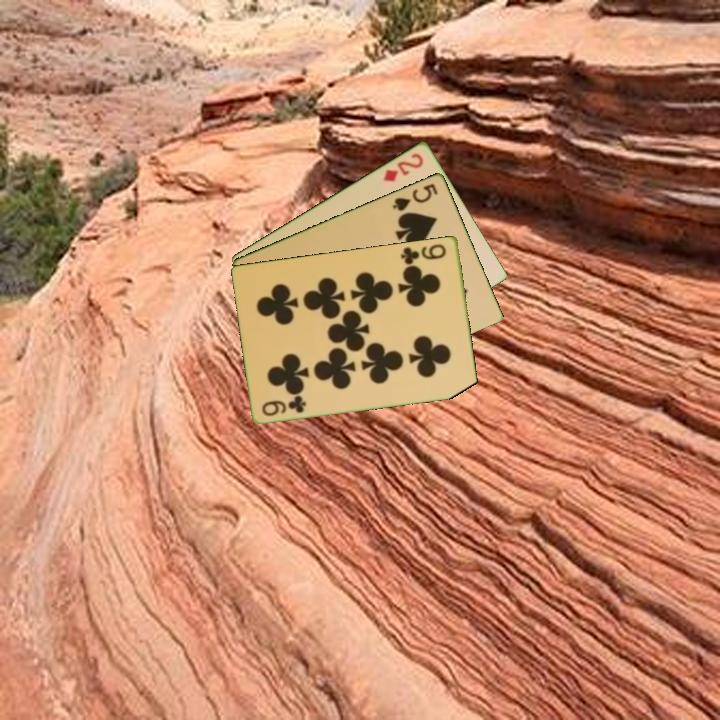2d: (380, 149, 426, 184)
5s: (389, 179, 441, 214)
9c: (397, 240, 449, 267), (259, 392, 309, 419)
